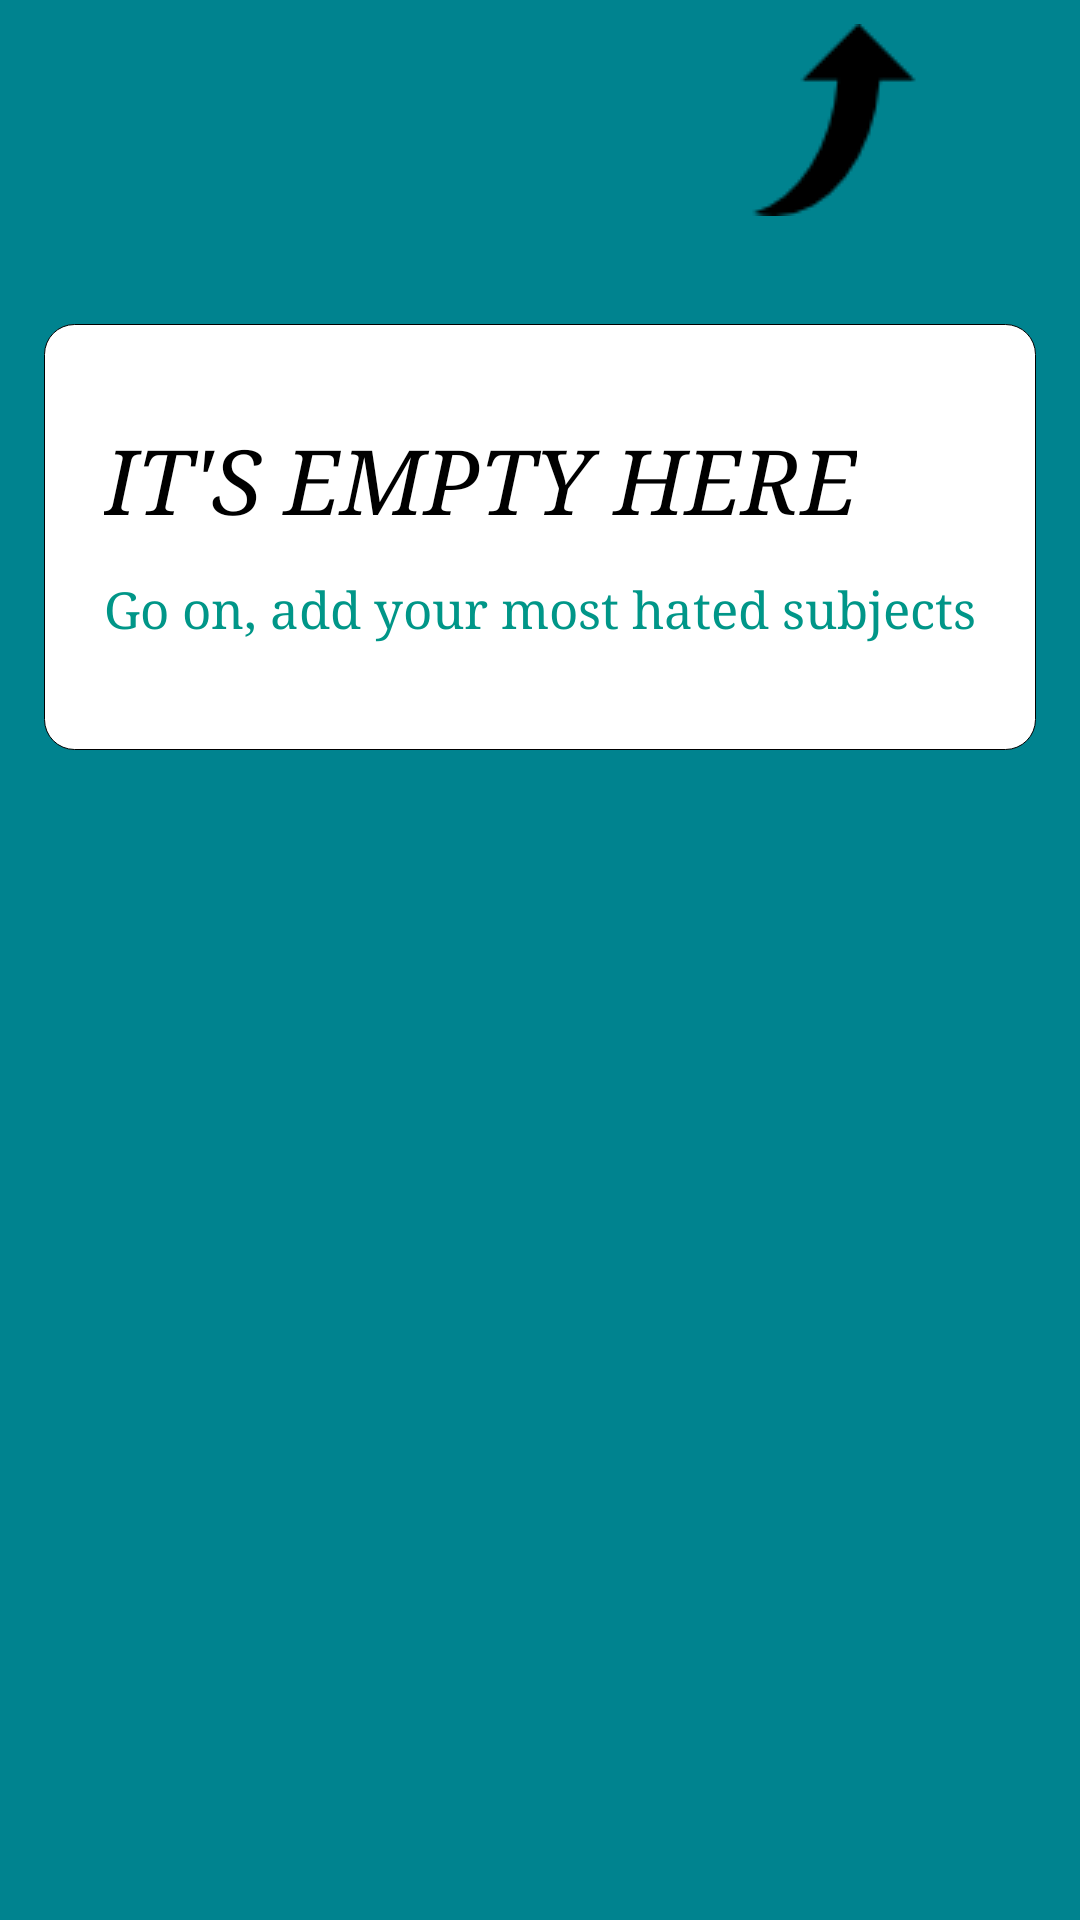

Icons on this 1080*1920 Android screen, each with its box as (x1, y1, x2, y2):
newarrow: (755, 24, 915, 216)
